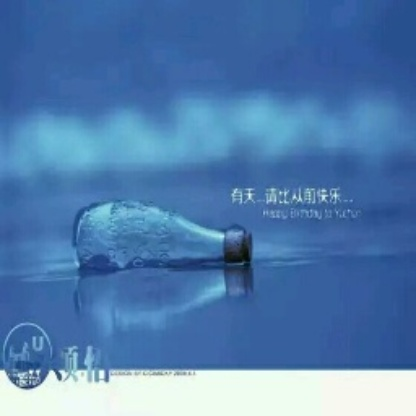bottle: (71, 199, 253, 275)
